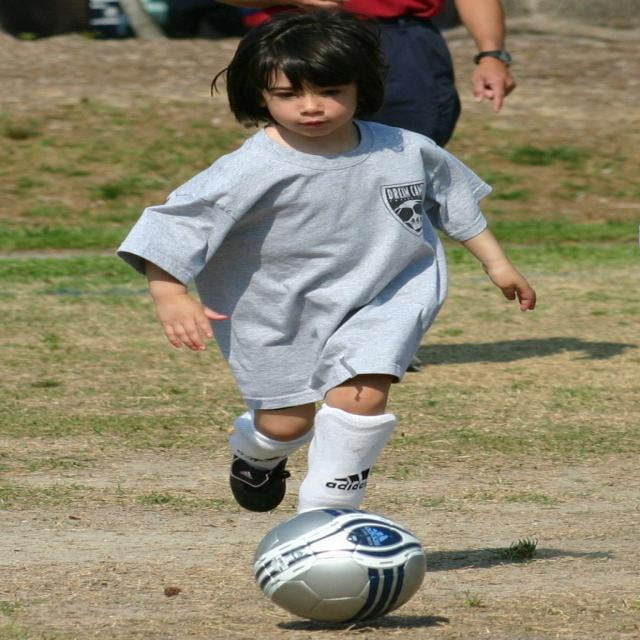football: (259, 490, 446, 636)
